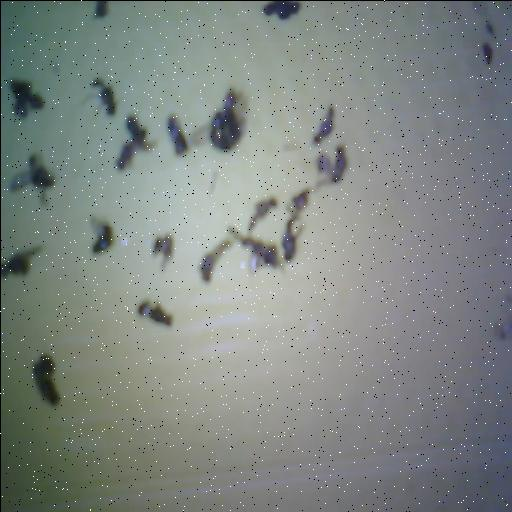Insects: (187, 89, 246, 150), (228, 228, 282, 272), (9, 154, 53, 204), (210, 90, 245, 150), (115, 116, 154, 169), (32, 354, 59, 404), (9, 79, 43, 118), (199, 240, 231, 281), (316, 146, 346, 188), (1, 246, 42, 276), (125, 116, 153, 150), (248, 198, 276, 232), (281, 217, 302, 261), (91, 78, 115, 115), (137, 301, 172, 326), (493, 295, 511, 340), (90, 217, 112, 253), (167, 116, 187, 154), (313, 106, 333, 144), (262, 1, 299, 19), (153, 234, 172, 269), (287, 189, 309, 216), (115, 143, 133, 170), (93, 0, 107, 17), (481, 43, 492, 64), (485, 21, 494, 35)
